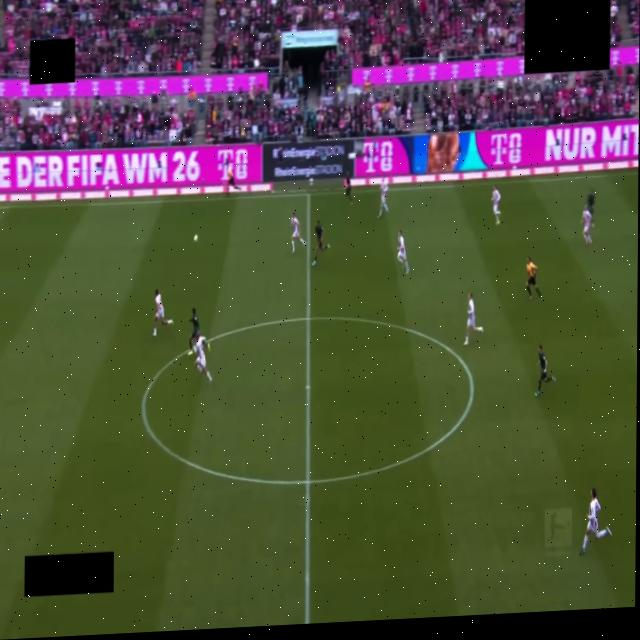ball: (194, 234, 198, 242)
player: (580, 487, 613, 555), (535, 345, 555, 396), (464, 293, 482, 346), (152, 290, 173, 335), (312, 220, 330, 266), (194, 333, 211, 381), (291, 213, 305, 253), (188, 309, 200, 355), (398, 230, 409, 274), (581, 206, 592, 246), (378, 178, 389, 218), (492, 184, 501, 225), (587, 189, 594, 226), (345, 173, 352, 204)
referee: (527, 258, 542, 299)
